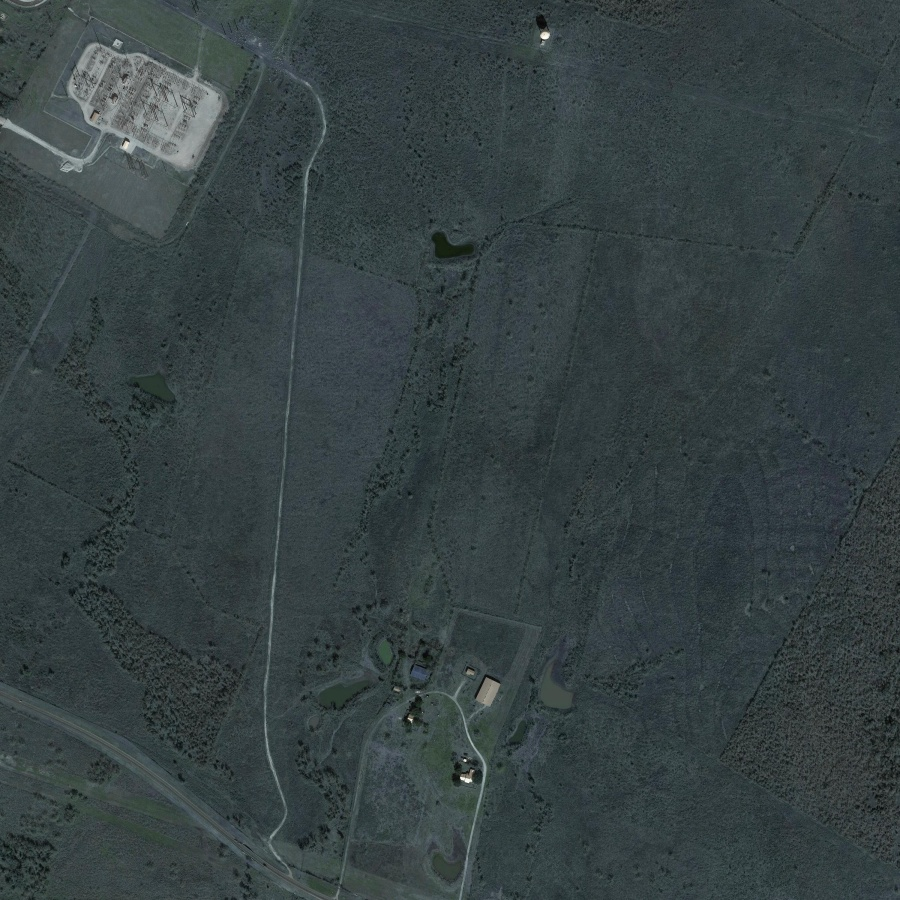PowerPlant: (65, 27, 212, 164)
